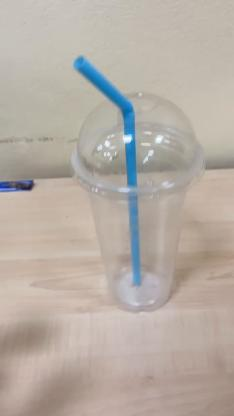Plastic Cup: (71, 88, 203, 312)
